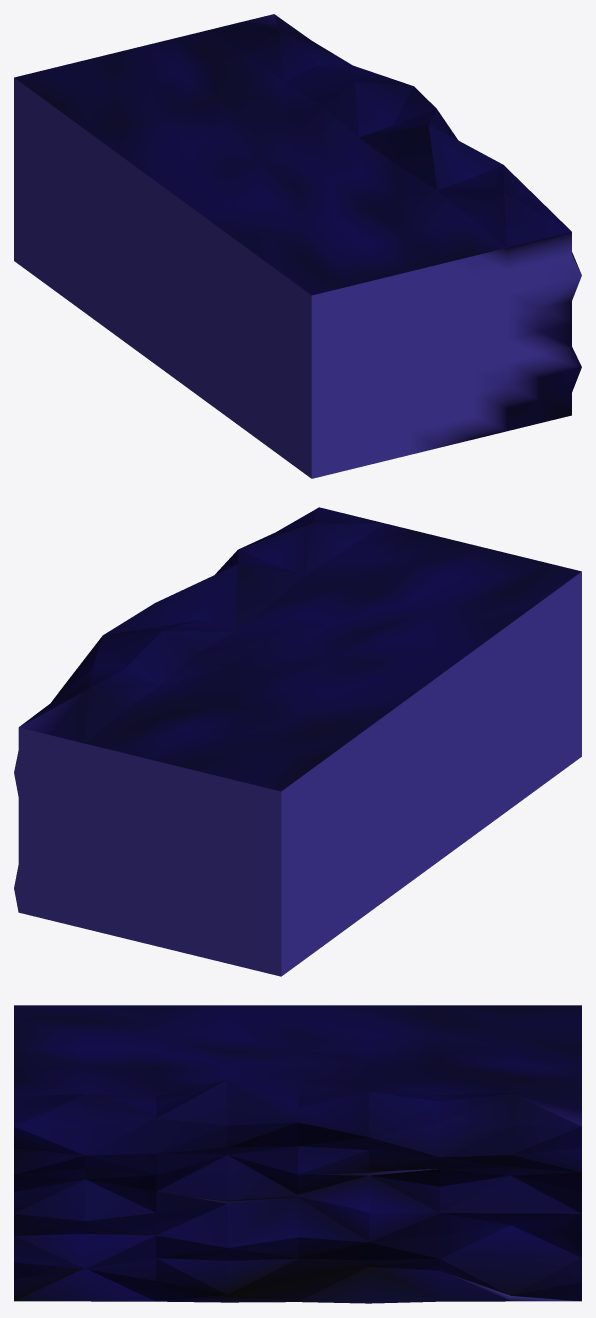
3 renders of one model, top to bottom at view 1: azimuth 30°, elevation 25°; view 2: azimuth 150°, elevation 25°; view 3: azimuth 270°, elevation 25°, orthographic. The views are drawn at different scales.
Visible parts, largest first — view 1: Cube; view 2: Cube; view 3: Cube.
Boxes of the visible parts, left/top/right/bottom form: Cube: left=14, top=14, right=581, bottom=478; Cube: left=14, top=507, right=581, bottom=976; Cube: left=14, top=1005, right=581, bottom=1303.
Size of the model in its own units: 2.27 by 1.59 by 3.96.
